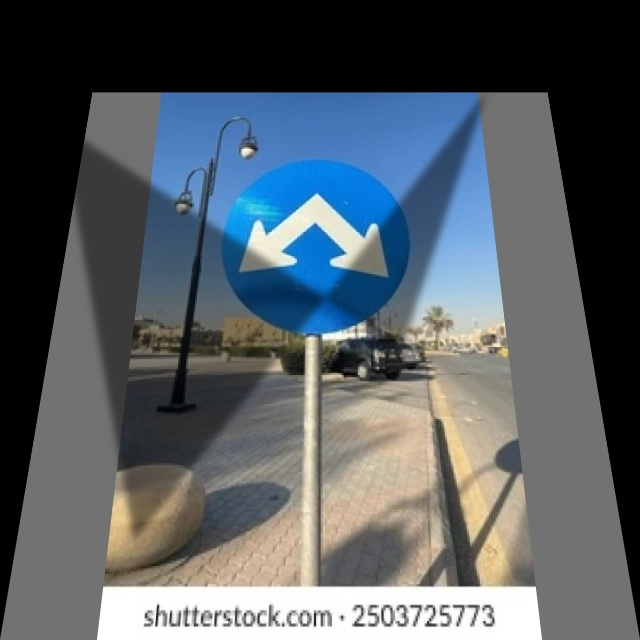Pass_Either_Side: (210, 157, 422, 331)
